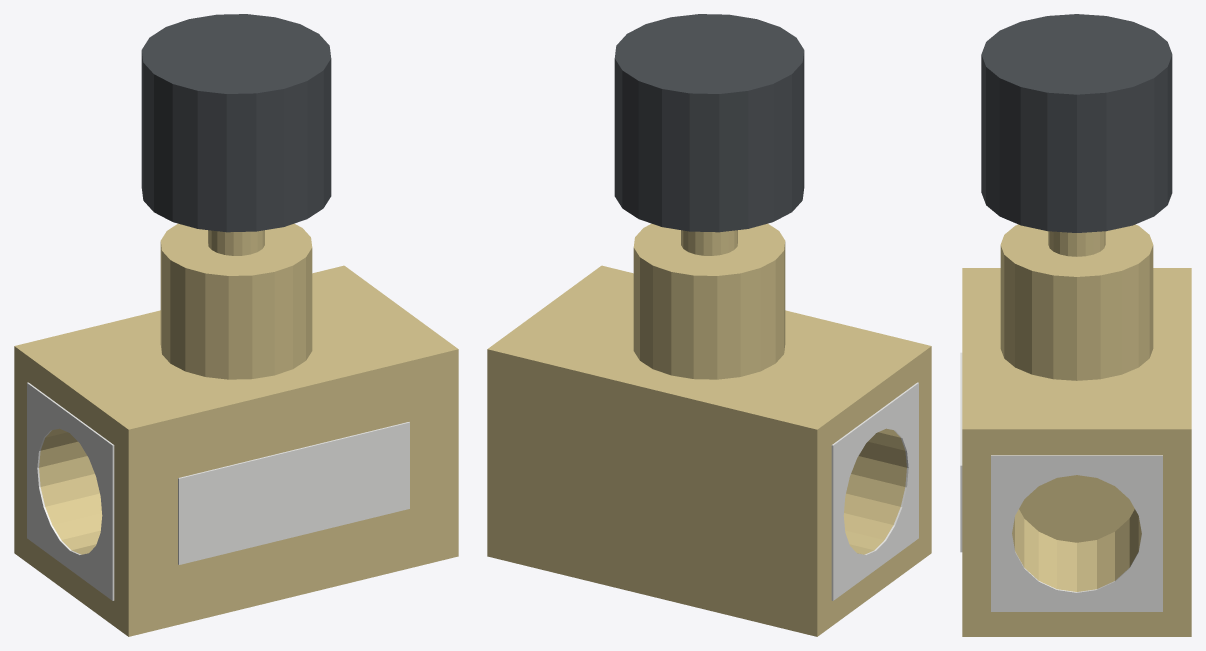
The model's file is valve-needle.glb.
3 views of the same model, side by side, from view 1: azimuth 30°, elevation 25°; view 2: azimuth 150°, elevation 25°; view 3: azimuth 270°, elevation 25° (orthographic).
Parts seen in each view (by area): view 1: body, knob, port-1; view 2: body, knob, port-1; view 3: body, knob, port-2.
Part boxes in pixels (<box>): body: <box>14,223,458,636</box>; knob: <box>141,14,331,255</box>; port-1: <box>27,382,114,600</box>; body: <box>487,223,931,636</box>; knob: <box>614,14,804,255</box>; port-1: <box>831,382,918,600</box>; body: <box>960,224,1191,636</box>; knob: <box>981,14,1172,256</box>; port-2: <box>991,455,1162,611</box>.
Size of what is drawn, in the model's own units: 0.0404 by 0.058 by 0.0242.
